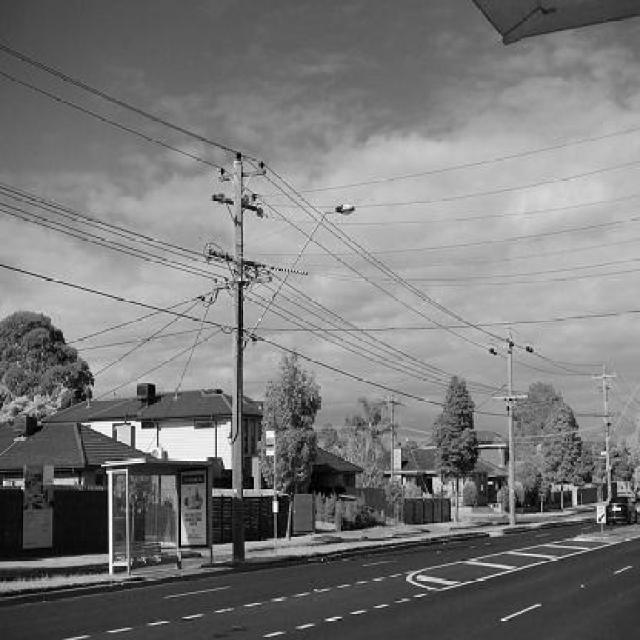pole: (198, 142, 290, 489)
